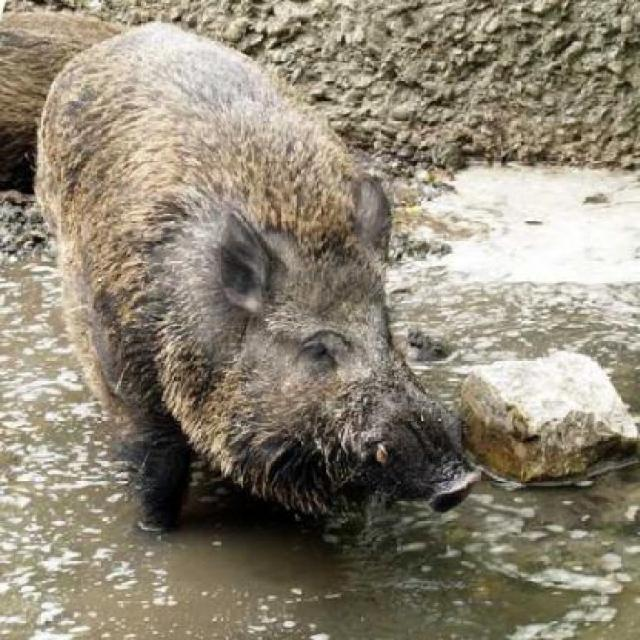pig: (0, 27, 512, 623)
